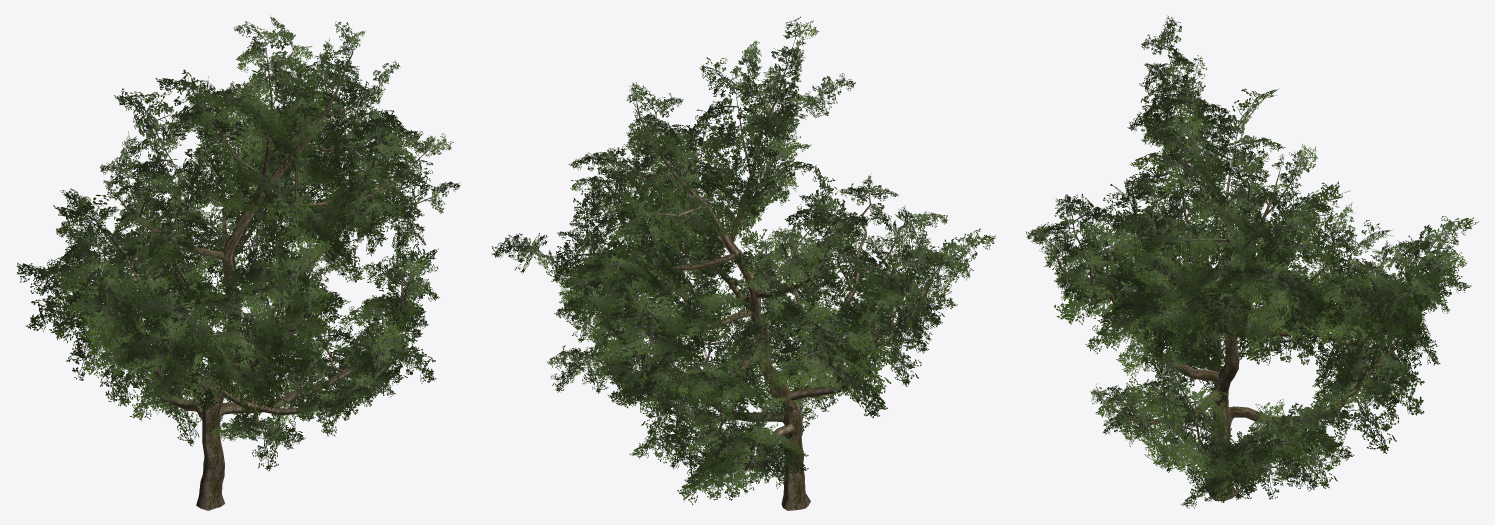
Rendered from tree_oak_a.glb.
3 renders of one model, left to right at view 1: azimuth 30°, elevation 25°; view 2: azimuth 150°, elevation 25°; view 3: azimuth 270°, elevation 25°, orthographic. The views are drawn at different scales.
Parts seen in each view (by area): view 1: tree_oak_a; view 2: tree_oak_a; view 3: tree_oak_a.
Part boxes in pixels (x1=…): tree_oak_a: x1=16, y1=15, x2=460, y2=510; tree_oak_a: x1=491, y1=16, x2=995, y2=510; tree_oak_a: x1=1025, y1=15, x2=1478, y2=508.
Size of the model in its own units: 84.37 by 96 by 81.78.
2 materials, 2 textured.
